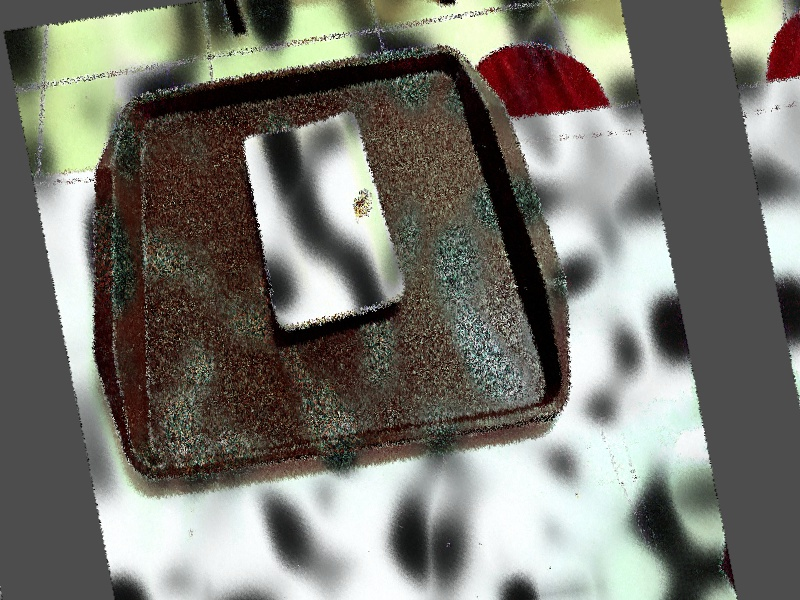dish4: (232, 101, 417, 339)
